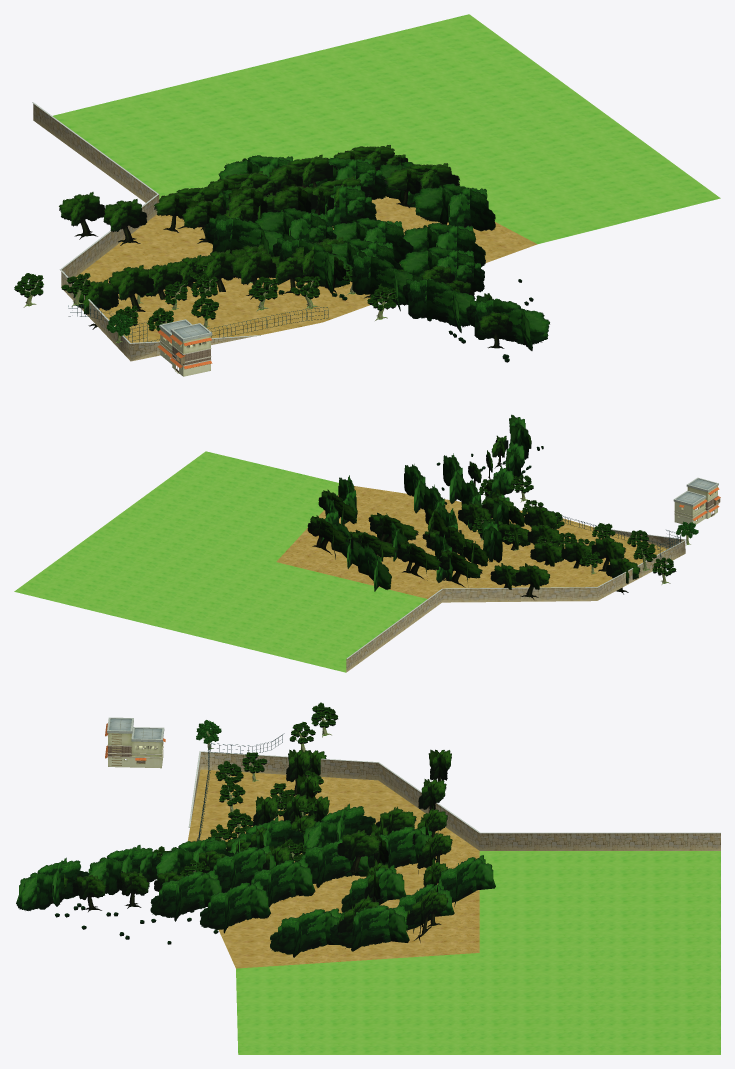
3 views of the same model, one above another, from view 1: azimuth 30°, elevation 25°; view 2: azimuth 150°, elevation 25°; view 3: azimuth 270°, elevation 25° (orthographic). The views are drawn at different scales.
Visible parts, largest first — view 1: sa00gflo00_001, ki006_04_001, ki006_15_001, ha005_11_001, sa00fobj01_001, ki004_08_001, sa00dart00_001; view 2: sa00gflo00_001, ki006_15_001, ki006_04_001, ha005_11_001, sa00fobj01_001; view 3: sa00gflo00_001, ki006_04_001, ki006_15_001, ha005_11_001, sa00fobj01_001.
Boxes of the visible parts, x1,y1,x2,y2 form: sa00gflo00_001: (32,14,720,361); ki006_04_001: (205,155,549,350); ki006_15_001: (59,145,512,348); ha005_11_001: (14,261,404,331); sa00fobj01_001: (157,319,212,376); ki004_08_001: (23,263,391,343); sa00dart00_001: (68,305,328,360); sa00gflo00_001: (14,451,686,672); ki006_15_001: (307,428,640,599); ki006_04_001: (321,414,529,591); ha005_11_001: (472,474,676,576); sa00fobj01_001: (673,477,720,524); sa00gflo00_001: (188,751,720,1054); ki006_04_001: (16,803,495,957); ki006_15_001: (51,749,452,949); ha005_11_001: (153,702,337,876); sa00fobj01_001: (105,717,165,768).
Bounding box in the file's own units: 227 × 25.77 × 220.
Materials: 19 (19 with a texture image).
